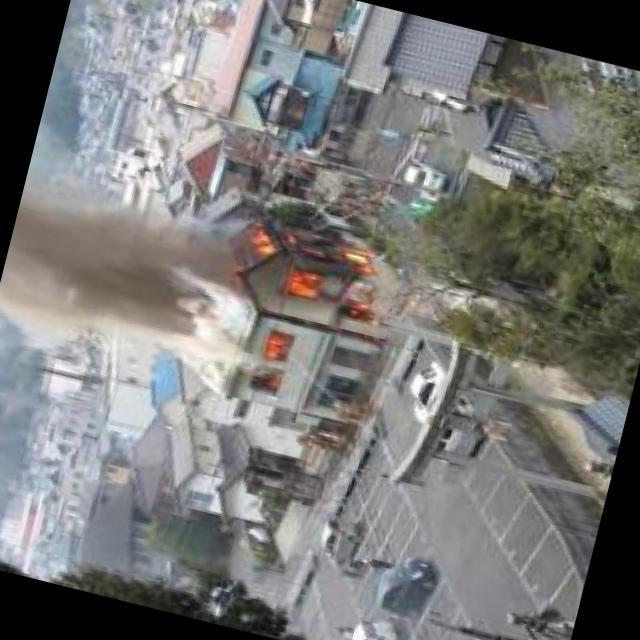Fire: (242, 218, 391, 314), (261, 321, 302, 375)
